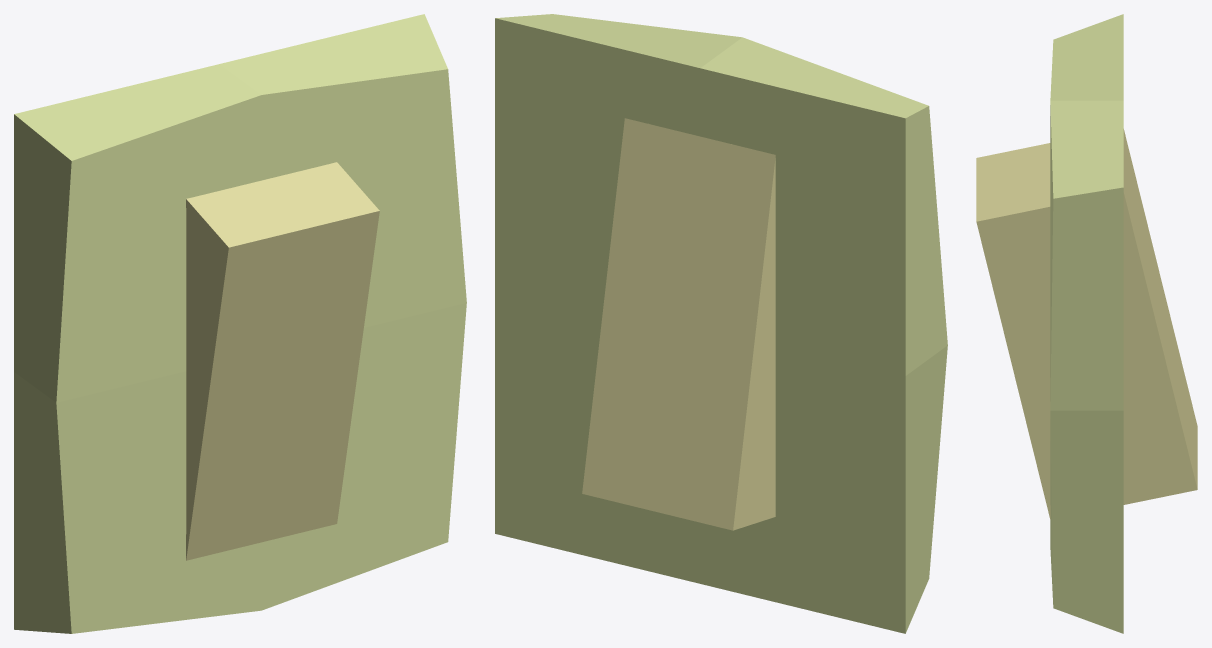
Rendered from Light Switch.fbx.
The picture shows the model from 3 angles, left to right: view 1: azimuth 30°, elevation 25°; view 2: azimuth 150°, elevation 25°; view 3: azimuth 270°, elevation 25°; orthographic projection. The views are drawn at different scales.
Parts seen in each view (by area): view 1: Cube, Куб; view 2: Cube, Куб; view 3: Cube, Куб.
Boxes of the visible parts, bbox=[...] form: Cube: bbox=[14, 14, 466, 633]; Куб: bbox=[186, 162, 379, 560]; Cube: bbox=[495, 14, 947, 633]; Куб: bbox=[582, 118, 775, 530]; Cube: bbox=[1050, 14, 1123, 633]; Куб: bbox=[976, 129, 1197, 519].
Bounding box in the file's own units: 544 × 653 × 293.
